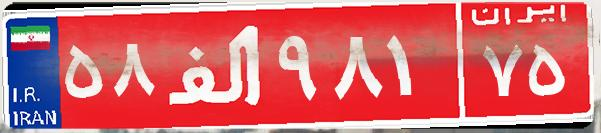1: (385, 28, 445, 110)
5: (57, 26, 110, 107), (525, 38, 570, 115)
7: (475, 38, 525, 113)
8: (330, 28, 385, 110), (110, 28, 158, 105)
9: (273, 28, 330, 110)
الف: (158, 15, 273, 115)
